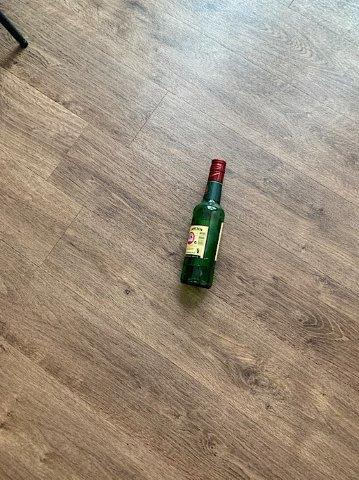botolkaca: (181, 160, 224, 288)
